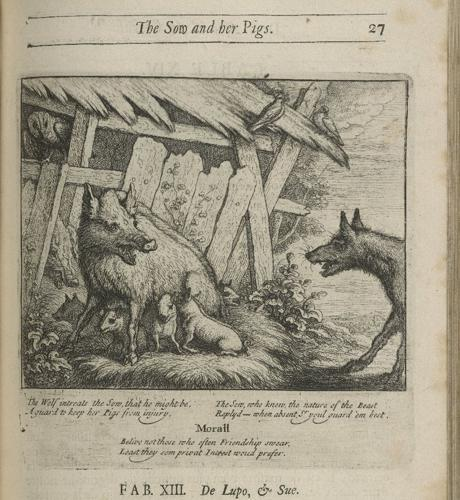bird: (20, 110, 69, 161), (249, 91, 284, 136), (313, 106, 344, 148)
